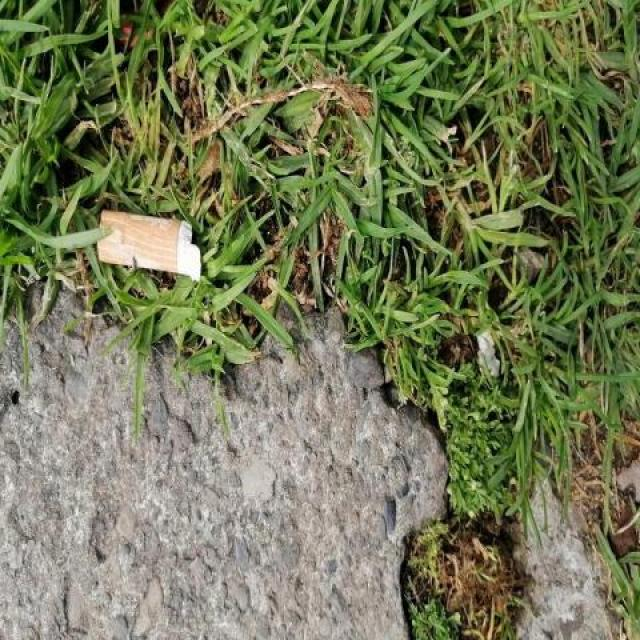non-organic waste: (96, 206, 207, 285)
